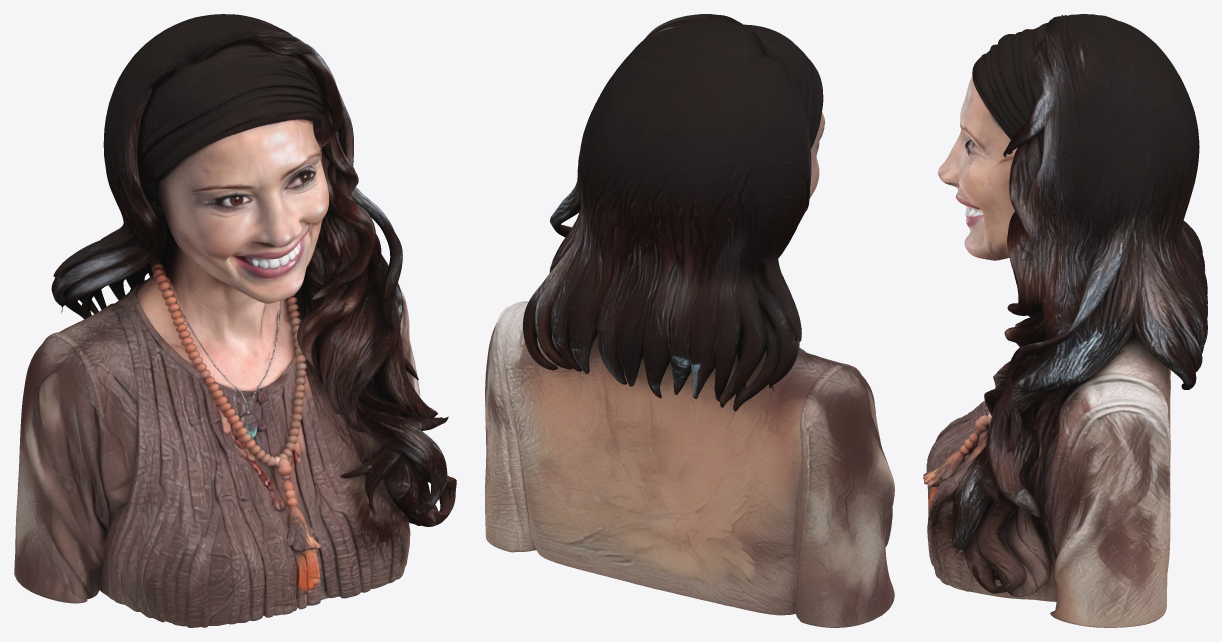
3 views of the same model, side by side, from view 1: azimuth 30°, elevation 25°; view 2: azimuth 150°, elevation 25°; view 3: azimuth 270°, elevation 25° (orthographic). The views are drawn at different scales.
Visible parts, largest first — view 1: model; view 2: model; view 3: model.
Part boxes in pixels (x1,y1,x2,y2): model: (14, 14, 456, 627); model: (485, 14, 894, 627); model: (923, 14, 1207, 627).
Size of the model in its own units: 1.46 by 1.9 by 0.9583.
Materials: 1 (1 with a texture image).
